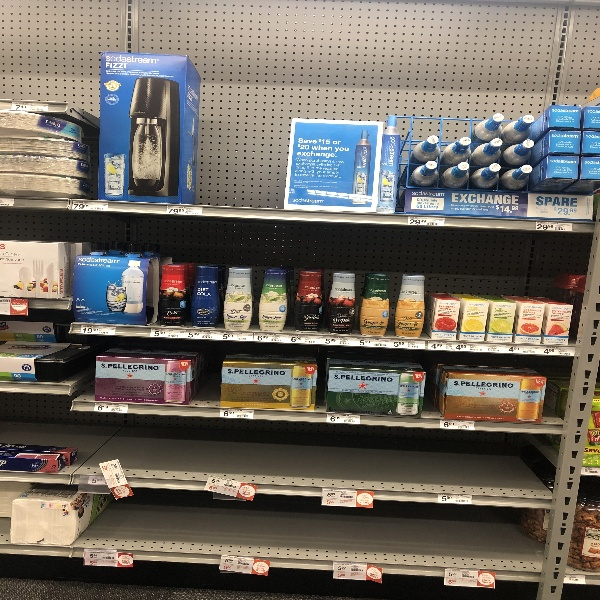void: (86, 499, 545, 566), (80, 423, 555, 483), (196, 1, 289, 206)
